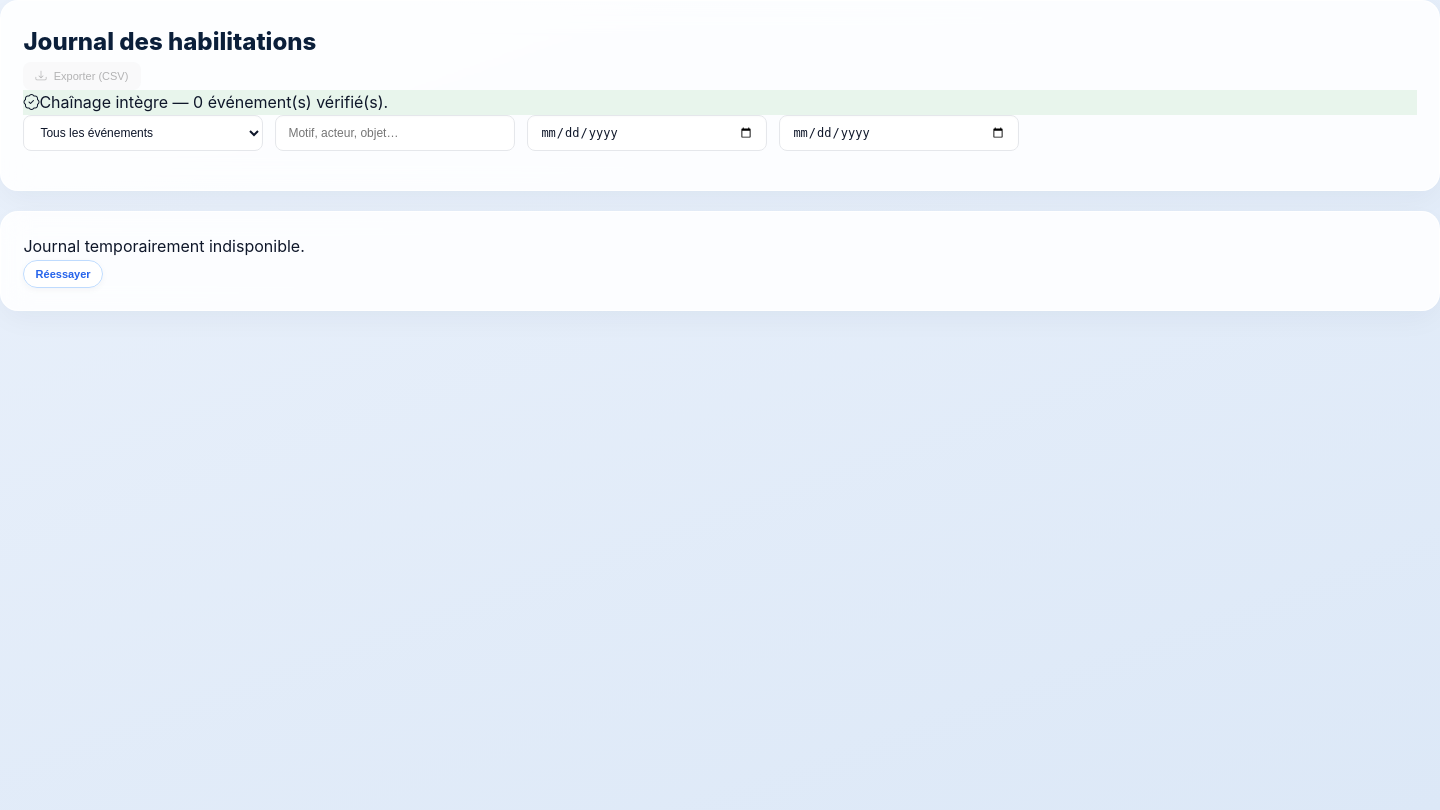
Test: JournalHabilitations › affiche une erreur récupérable si le chargement du journal échoue
expect the message with test id "journal-erreur" shows "Journal temporairement indisponible.": met, box 23,236 -> 305,256
Click the button "Réessayer". click: (63, 274)
box: 23,260 -> 103,288
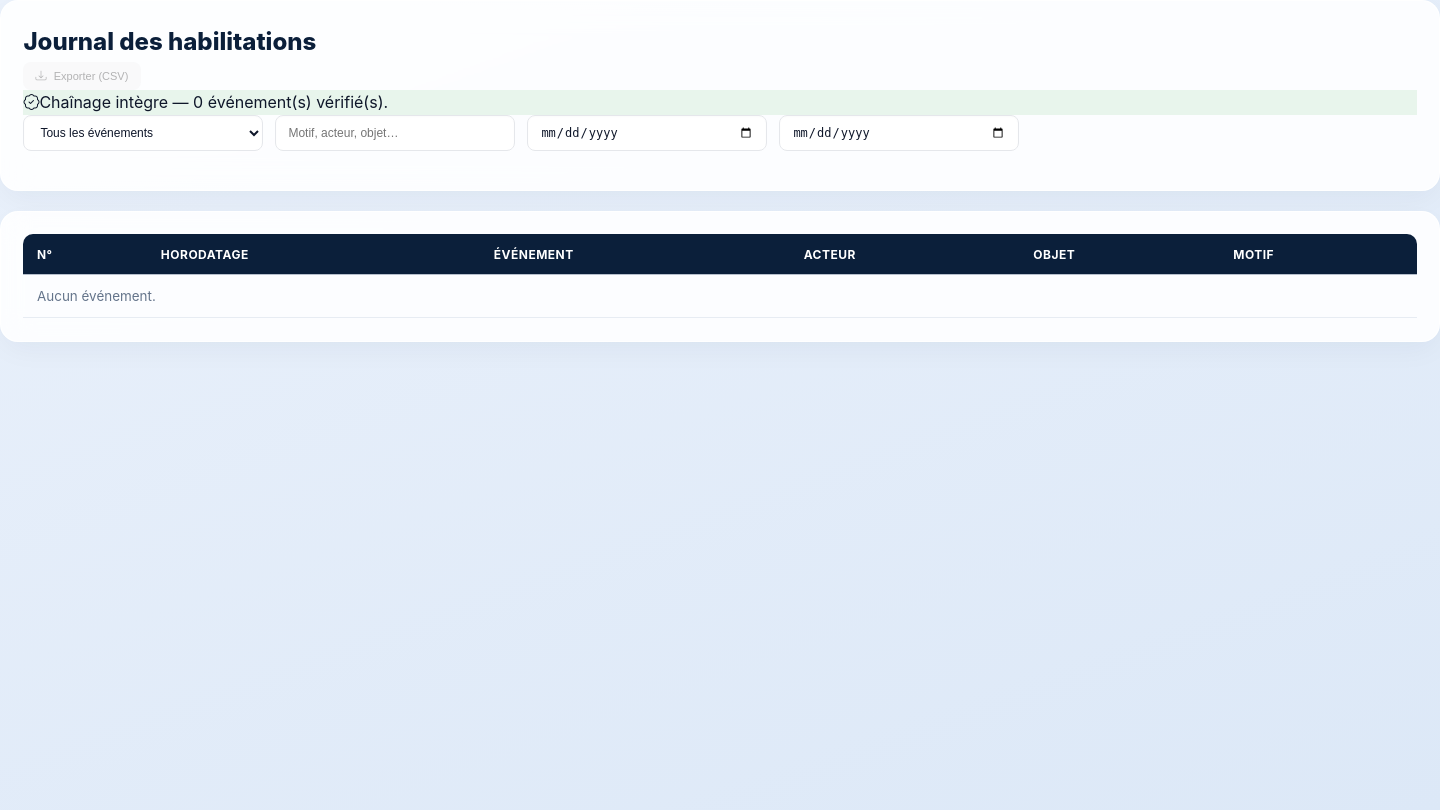
expect the text "Aucun événement." is shown: met, box 23,275 -> 1417,318
